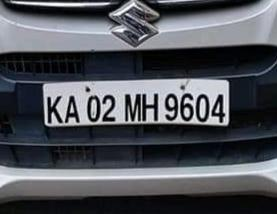0: (85, 93, 101, 124), (195, 92, 211, 123)
2: (100, 93, 122, 124)
4: (210, 93, 227, 124)
6: (180, 91, 194, 122)
9: (163, 92, 179, 124)
A: (65, 92, 82, 125)
H: (142, 91, 160, 124)
K: (46, 93, 64, 125)
M: (123, 91, 141, 125)
